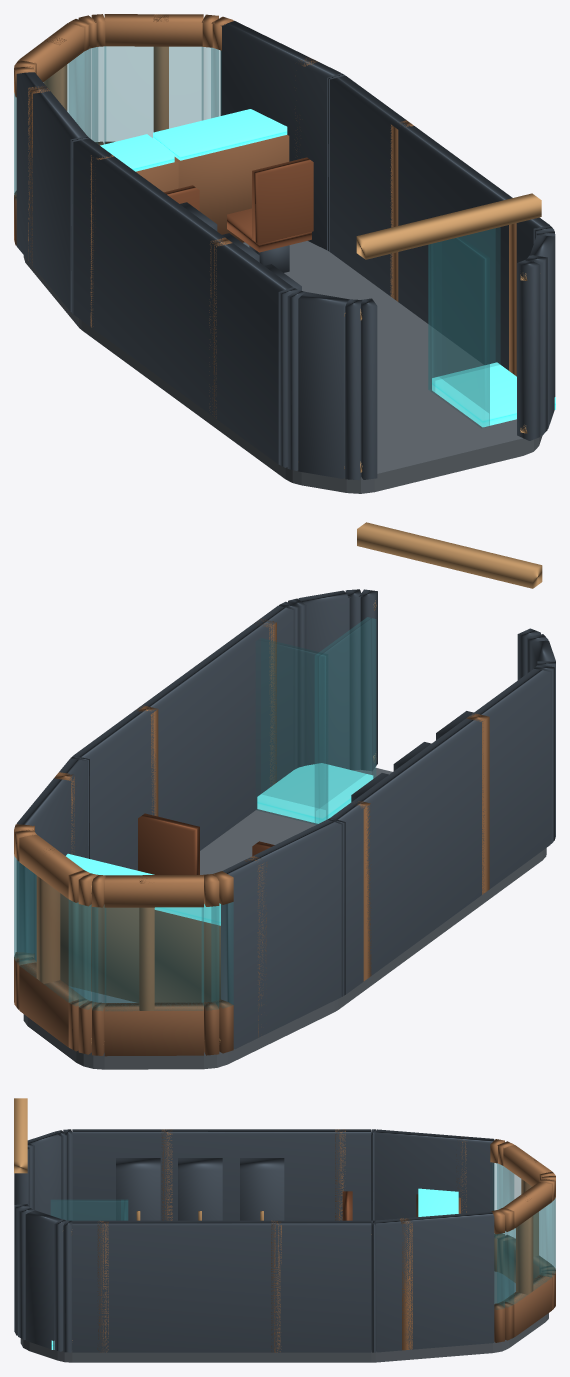
Rendered from Firefly_Interior.glb.
3 renders of one model, top to bottom at view 1: azimuth 30°, elevation 25°; view 2: azimuth 150°, elevation 25°; view 3: azimuth 270°, elevation 25°, orthographic. The views are drawn at different scales.
Parts seen in each view (by area): view 1: Wall (×13), Firefly_Cabin_floor, Bridge_wall (×9), Quarantine_side, Quarantine_partition, Console_body (×2), ControlScreen (×2), Rib (×5), Door_header, Seat_back, Quarantine_floor, Seat (+1 smaller); view 2: Wall (×11), Bridge_wall (×16), Console_body (×2), Quarantine_partition, Quarantine_side, Firefly_Cabin_floor, Rib (×6), Door_header, Quarantine_floor, Seat_back, ControlScreen (×2); view 3: Wall (×16), Bridge_wall (×13), Equipment_locker (×3), Firefly_Cabin_floor, Rib (×7), Quarantine_side, ControlScreen, Door_header.
Part boxes in pixels (bbox=[...]): Wall (×13): bbox=[16, 20, 555, 480]; Firefly_Cabin_floor: bbox=[23, 241, 542, 493]; Bridge_wall (×9): bbox=[19, 14, 221, 144]; Quarantine_side: bbox=[428, 237, 489, 427]; Quarantine_partition: bbox=[428, 228, 499, 392]; Console_body (×2): bbox=[136, 135, 289, 242]; ControlScreen (×2): bbox=[100, 109, 287, 171]; Rib (×5): bbox=[28, 14, 516, 376]; Door_header: bbox=[356, 193, 541, 259]; Seat_back: bbox=[252, 157, 313, 244]; Quarantine_floor: bbox=[432, 362, 555, 427]; Seat: bbox=[227, 208, 311, 252]; Wall (×11): bbox=[16, 589, 554, 1049]; Bridge_wall (×16): bbox=[14, 834, 233, 1056]; Console_body (×2): bbox=[60, 893, 220, 1002]; Quarantine_partition: bbox=[256, 638, 327, 824]; Quarantine_side: bbox=[315, 617, 375, 824]; Firefly_Cabin_floor: bbox=[23, 767, 546, 1069]; Rib (×6): bbox=[36, 619, 489, 1010]; Door_header: bbox=[357, 522, 542, 588]; Quarantine_floor: bbox=[257, 763, 373, 823]; Seat_back: bbox=[138, 813, 199, 874]; ControlScreen (×2): bbox=[66, 853, 220, 925]; Wall (×16): bbox=[14, 1129, 494, 1352]; Bridge_wall (×13): bbox=[491, 1145, 555, 1342]; Equipment_locker (×3): bbox=[116, 1158, 284, 1220]; Firefly_Cabin_floor: bbox=[20, 1271, 548, 1362]; Rib (×7): bbox=[97, 1129, 538, 1352]; Quarantine_side: bbox=[51, 1200, 127, 1220]; ControlScreen: bbox=[418, 1188, 458, 1216]; Door_header: bbox=[14, 1098, 27, 1173].
Bounding box in the file's own units: 3.72 × 3.34 × 8.76.
